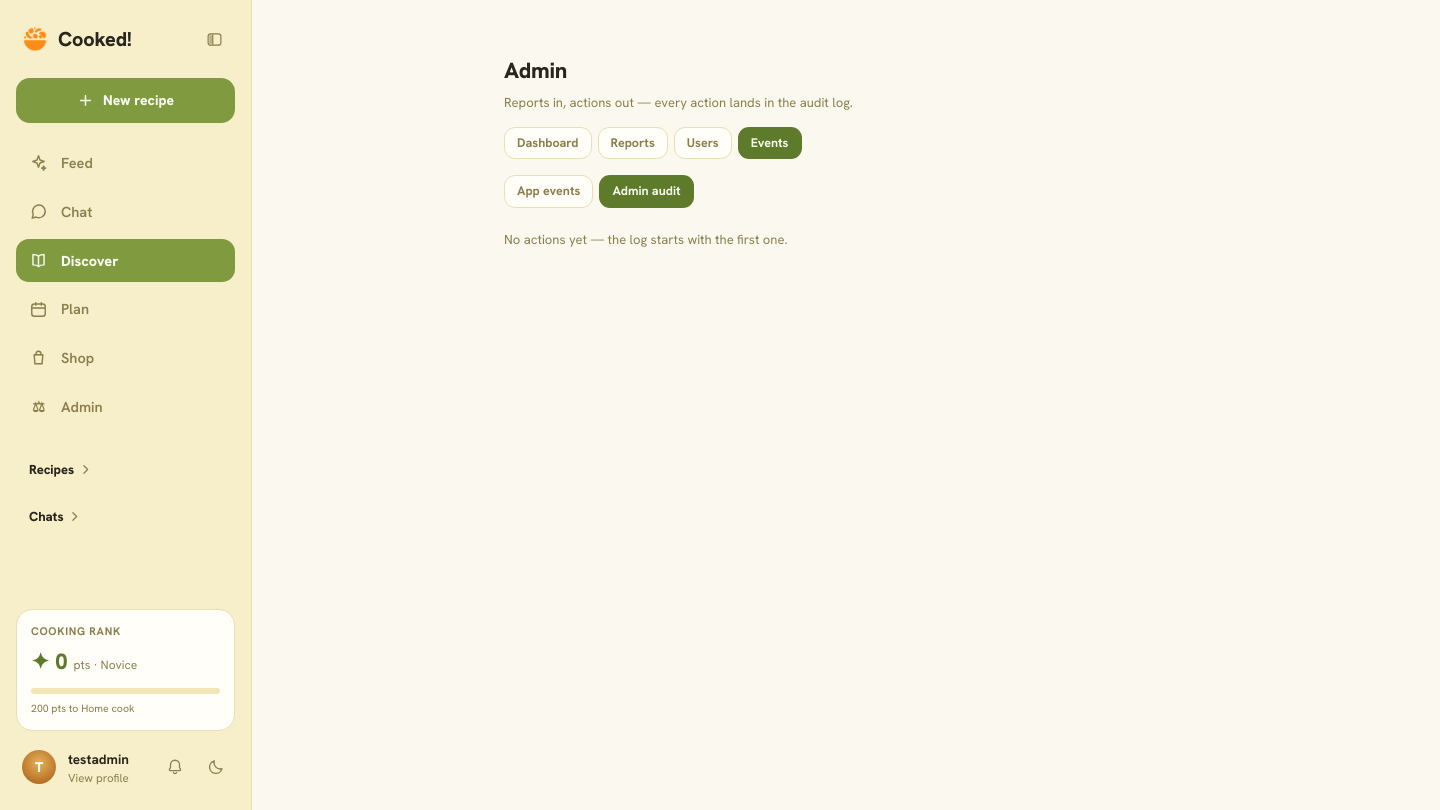
AdminEventsTab — events pane › renders a human description, actor and detail for a row
The width and height of the screenshot is (1440, 810).
Click the button "App events".
click(549, 192)  # box [504, 175, 593, 208]
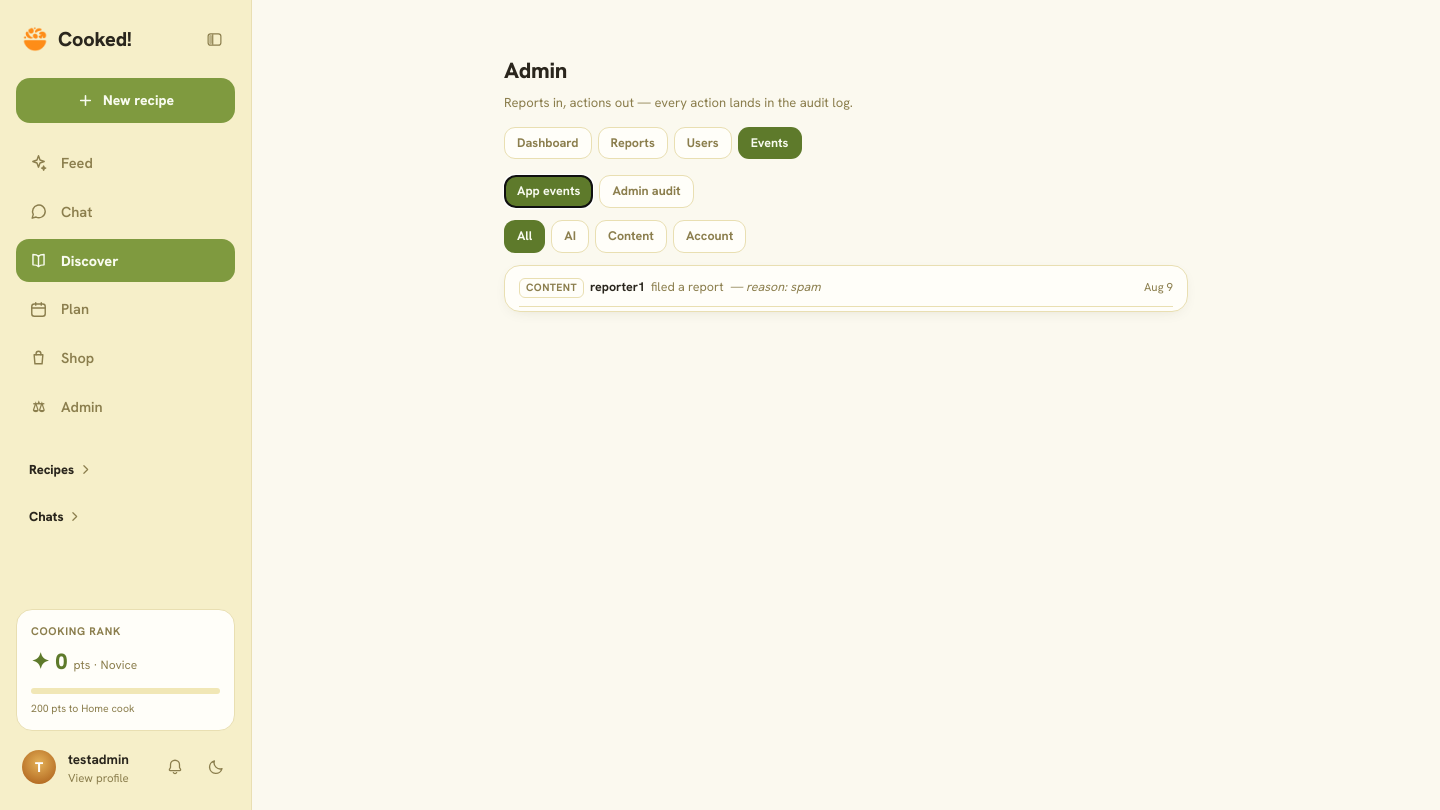
Result: the text "filed a report" is shown at [651, 278, 724, 297]
Result: the text "reporter1" is shown at [590, 278, 645, 297]
Result: the text "reason: spam" is shown at [746, 278, 821, 295]
